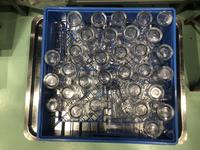Glass: (106, 87, 128, 118), (105, 117, 139, 137), (50, 21, 68, 53), (137, 118, 163, 139), (151, 100, 175, 121), (78, 27, 98, 52), (66, 11, 85, 37), (66, 43, 88, 64), (133, 61, 154, 82), (151, 44, 173, 64), (131, 10, 153, 30), (127, 99, 150, 118), (111, 64, 133, 83), (108, 10, 127, 32), (121, 25, 140, 47), (92, 50, 111, 71), (122, 81, 144, 99), (111, 43, 129, 65), (59, 61, 79, 80), (129, 43, 149, 62), (142, 27, 162, 46), (100, 28, 118, 49), (90, 12, 107, 34), (43, 72, 63, 90), (47, 95, 67, 113), (67, 102, 87, 120), (43, 50, 63, 67), (144, 83, 164, 100), (77, 74, 98, 90), (59, 85, 81, 100), (88, 96, 106, 114), (155, 66, 173, 83), (96, 71, 113, 87), (156, 11, 172, 28)
